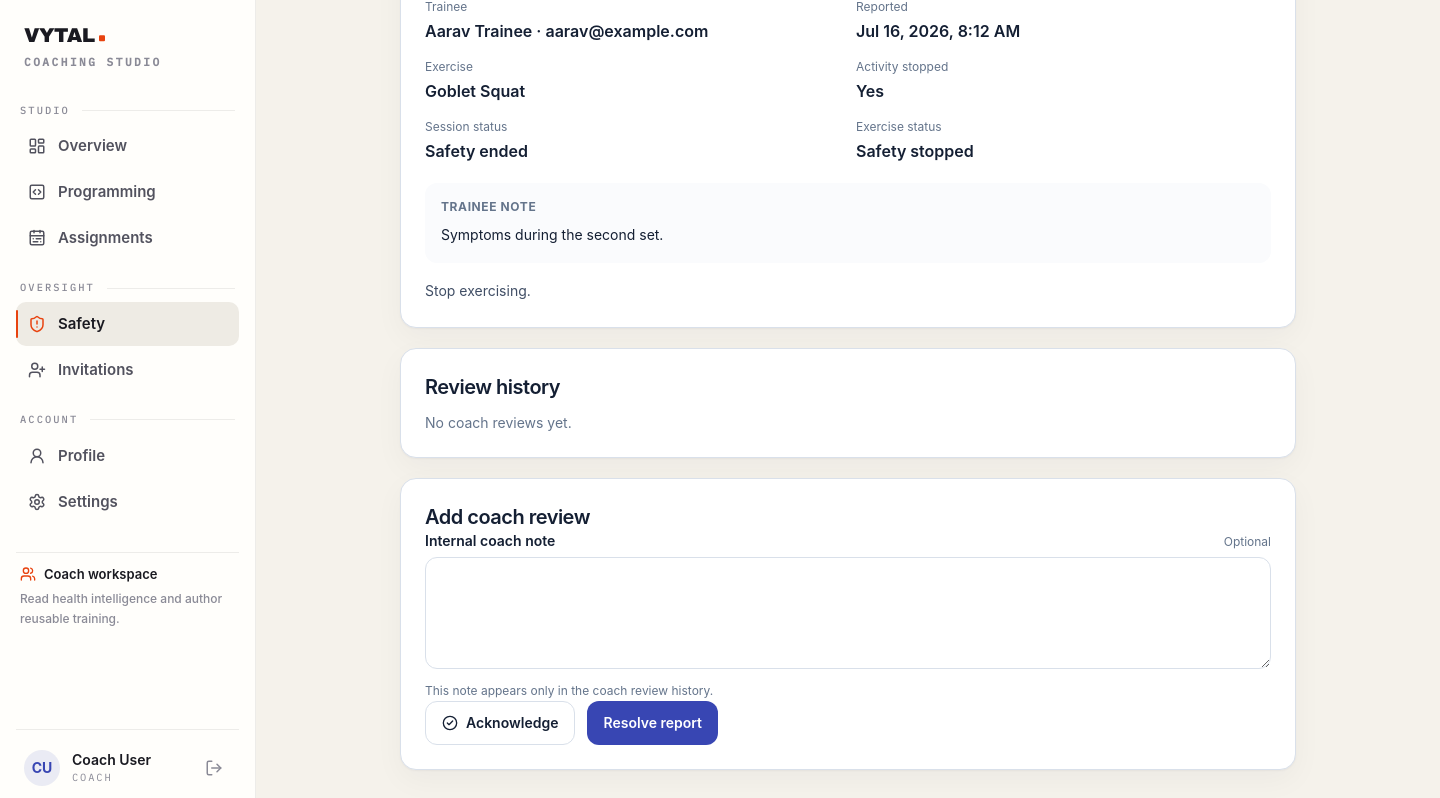
shows report detail and appends acknowledge and resolve review actions
(page scrolled)
Step 1. Type "Followed up" into the text box labelled "Internal coach note Optional" → (848, 613), box [425,557,1271,669]
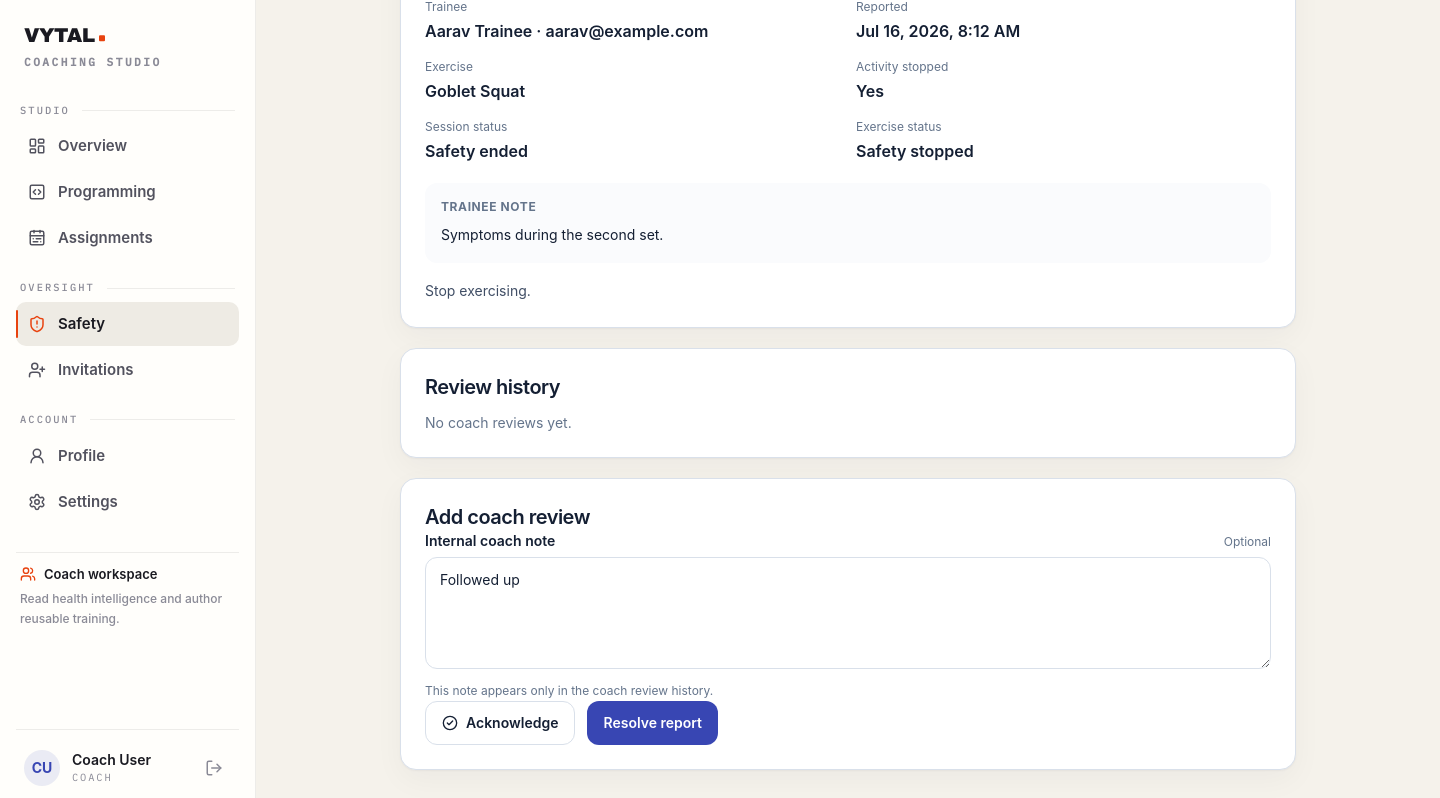
Step 2. Click the button "Acknowledge" → (500, 723), box [425,701,576,745]
(page scrolled)
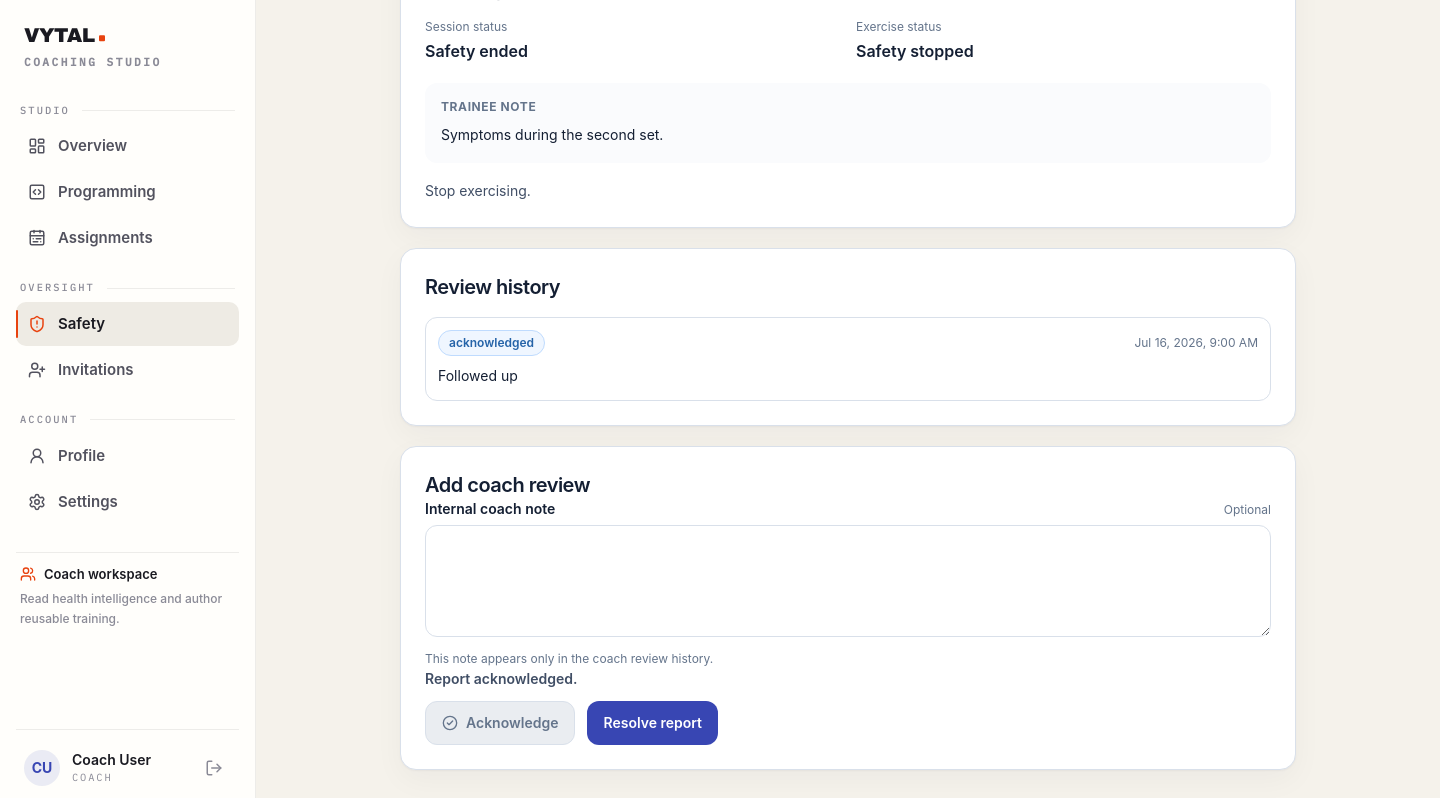
Now the text "Report acknowledged." is shown, box [425,670,578,687]
Now the text "Followed up" is shown, box [438,367,518,384]
Step 3. Click the button "Resolve report" → (653, 723), box [588,701,718,745]
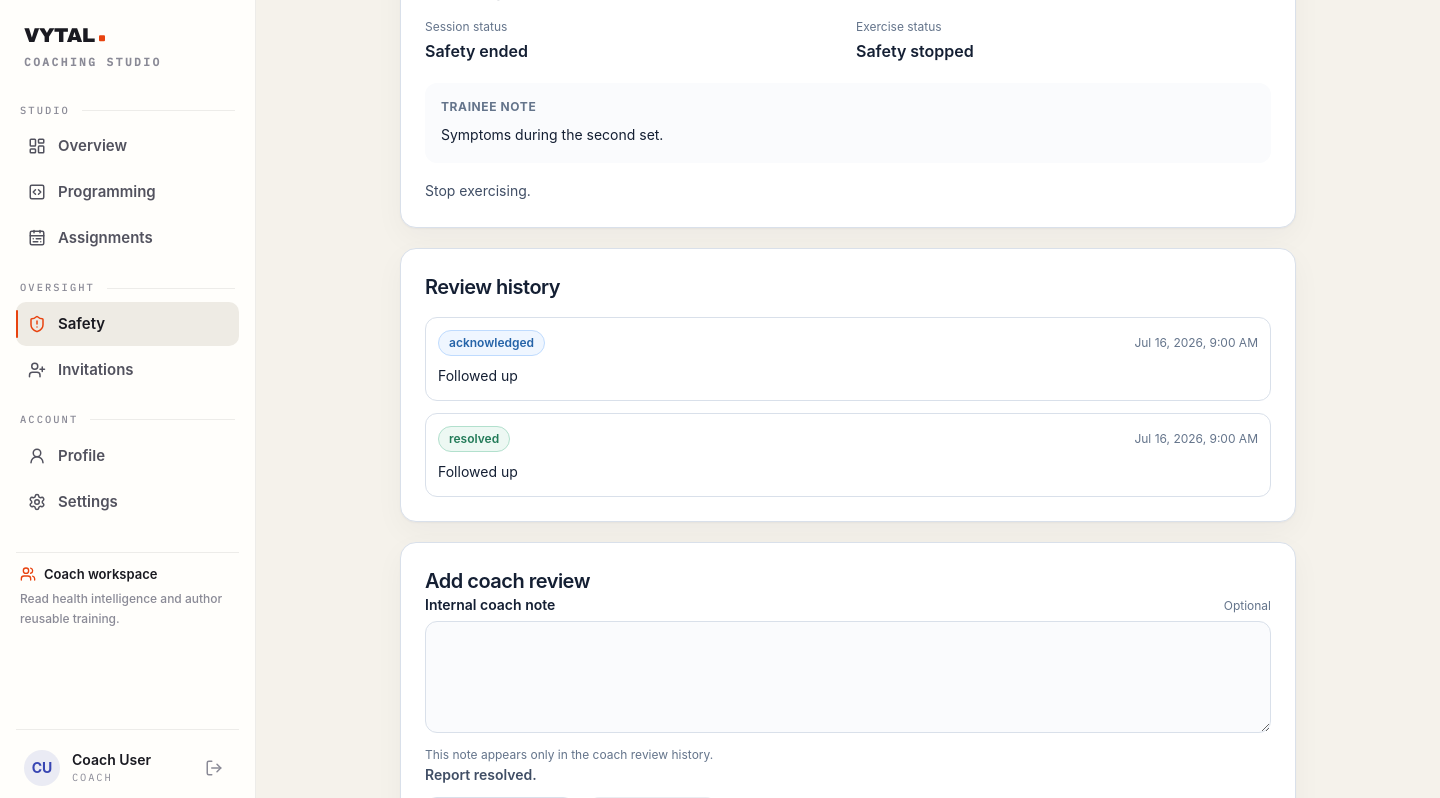
Now the text "Report resolved." is shown, box [425,766,537,783]
